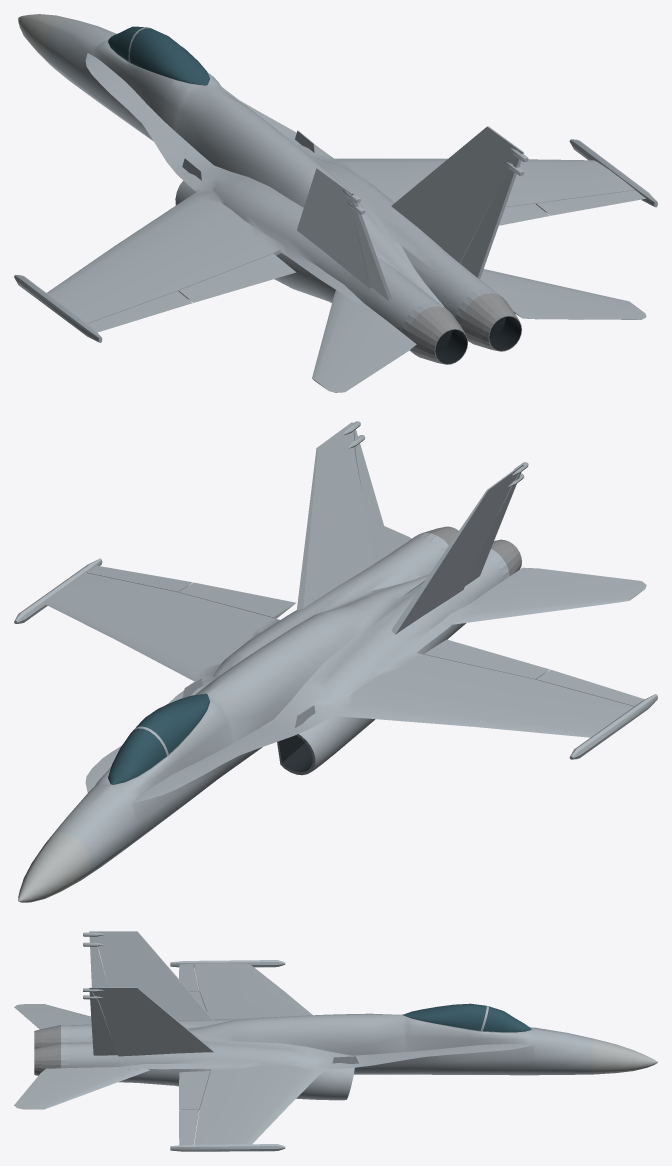
3 views of the same model, one above another, from view 1: azimuth 30°, elevation 25°; view 2: azimuth 150°, elevation 25°; view 3: azimuth 270°, elevation 25° (orthographic). The views are drawn at different scales.
Parts seen in each view (by area): view 1: Airframe_Static, Stabilator_L, Stabilator_R, Flap_L, Rudder_R, Aileron_L, Aileron_R, Rudder_L, Flap_R; view 2: Airframe_Static, Stabilator_L, Flap_L, Flap_R, Rudder_R, Aileron_L, Aileron_R, Rudder_L; view 3: Airframe_Static, Stabilator_R, Stabilator_L, Flap_R, Rudder_R, Aileron_R, Rudder_L, Aileron_L.
Boxes of the visible parts, box(x1,y1,x2,y2) form: Airframe_Static: box(14, 14, 657, 364); Stabilator_L: box(312, 290, 416, 392); Stabilator_R: box(480, 269, 646, 319); Flap_L: box(178, 253, 296, 302); Rudder_R: box(460, 153, 523, 278); Aileron_L: box(88, 291, 192, 332); Aileron_R: box(536, 190, 645, 215); Rudder_L: box(351, 194, 391, 301); Flap_R: box(499, 203, 549, 225); Airframe_Static: box(14, 421, 657, 902); Stabilator_L: box(453, 567, 646, 624); Flap_L: box(423, 639, 549, 679); Flap_R: box(178, 582, 295, 618); Rudder_R: box(353, 423, 391, 562); Aileron_L: box(536, 669, 644, 706); Aileron_R: box(86, 565, 192, 592); Rudder_L: box(465, 465, 523, 585); Airframe_Static: box(34, 931, 657, 1151); Stabilator_R: box(14, 1067, 149, 1109); Stabilator_L: box(14, 1004, 91, 1029); Flap_R: box(179, 1071, 210, 1110); Rudder_R: box(89, 988, 117, 1055); Aileron_R: box(179, 1109, 198, 1145); Rudder_L: box(89, 932, 107, 1009); Aileron_L: box(179, 964, 198, 991).
Size of the model in its own units: 11.71 by 3.62 by 17.07.
